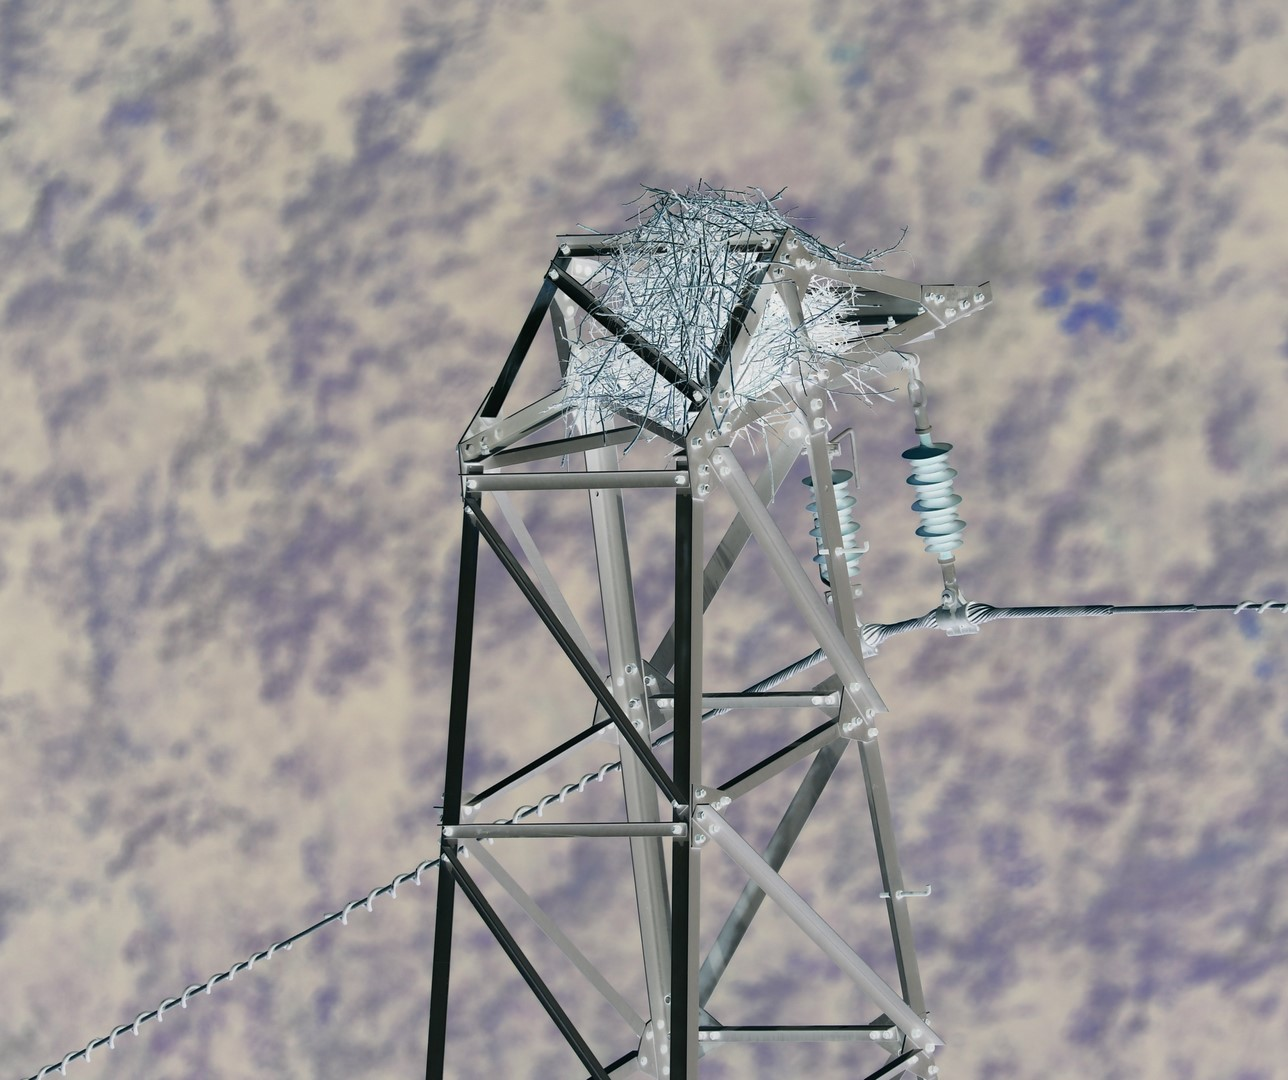niaowo: (530, 165, 859, 461)
